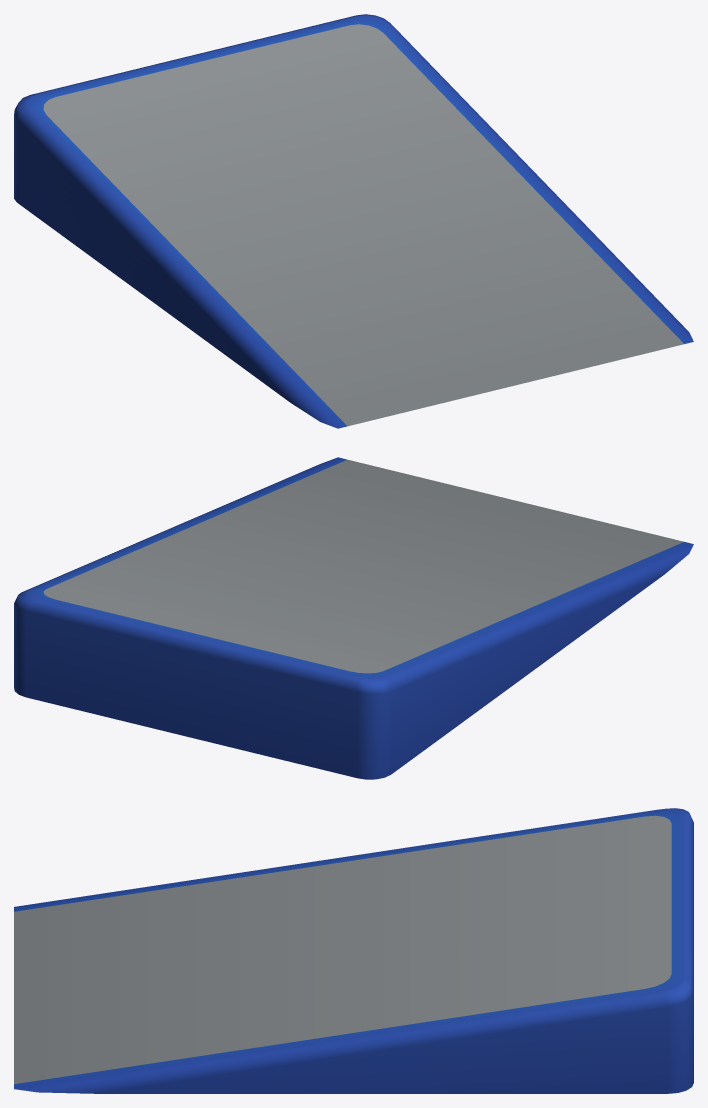
Rendered from Trampoline_05.fbx.
3 renders of one model, top to bottom at view 1: azimuth 30°, elevation 25°; view 2: azimuth 150°, elevation 25°; view 3: azimuth 270°, elevation 25°, orthographic. The views are drawn at different scales.
Parts seen in each view (by area): view 1: Trampoline_05; view 2: Trampoline_05; view 3: Trampoline_05.
Part boxes in pixels (<box>): Trampoline_05: <box>14,14,693,428</box>; Trampoline_05: <box>14,457,693,779</box>; Trampoline_05: <box>14,808,693,1093</box>.
Size of the model in its own units: 400 by 600 by 98.42.
